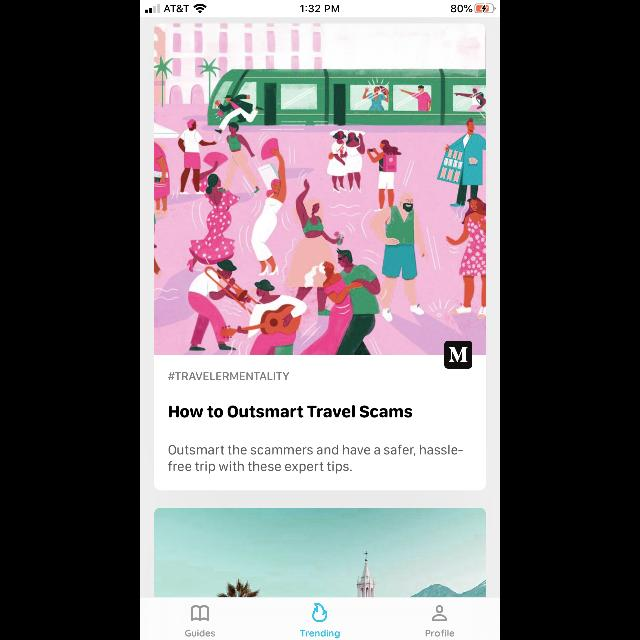icon: (191, 605, 209, 621), (432, 605, 448, 621)
image: (154, 23, 486, 354), (154, 508, 486, 598), (444, 342, 472, 368), (312, 602, 328, 622)
text: (168, 444, 464, 474), (170, 406, 412, 418), (168, 372, 290, 380), (300, 630, 340, 638), (185, 630, 215, 636), (426, 630, 454, 636)
uppertaskbar: (140, 1, 500, 18)
